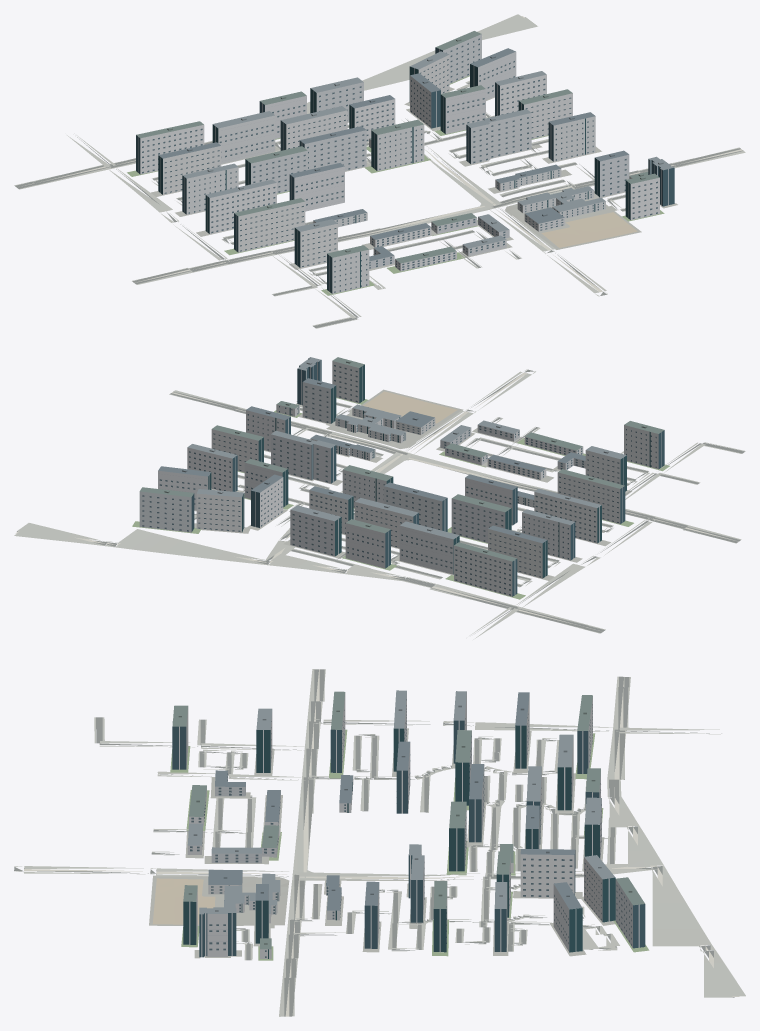
3 renders of one model, top to bottom at view 1: azimuth 30°, elevation 25°; view 2: azimuth 150°, elevation 25°; view 3: azimuth 270°, elevation 25°, orthographic. The views are drawn at different scales.
Parts seen in each view (by area): view 1: context-osm-buildings, context-osm-sidewalks, context-building-plinths, context-osm-roads, context-road-markings; view 2: context-osm-buildings, context-osm-sidewalks, context-osm-roads, context-building-plinths, context-road-markings; view 3: context-osm-buildings, context-osm-sidewalks, context-osm-roads, context-building-plinths, context-road-markings.
Boxes of the visible parts, x1=… form: context-osm-buildings: x1=136, y1=31, x2=674, y2=293; context-osm-sidewalks: x1=14, y1=14, x2=745, y2=328; context-building-plinths: x1=127, y1=75, x2=677, y2=295; context-osm-roads: x1=15, y1=17, x2=743, y2=328; context-road-markings: x1=22, y1=16, x2=742, y2=292; context-osm-buildings: x1=139, y1=357, x2=664, y2=596; context-osm-sidewalks: x1=14, y1=369, x2=745, y2=639; context-osm-roads: x1=17, y1=369, x2=744, y2=633; context-building-plinths: x1=132, y1=389, x2=669, y2=599; context-road-markings: x1=15, y1=372, x2=738, y2=630; context-osm-buildings: x1=172, y1=690, x2=645, y2=958; context-osm-sidewalks: x1=14, y1=669, x2=745, y2=1016; context-osm-roads: x1=14, y1=669, x2=734, y2=1016; context-building-plinths: x1=149, y1=728, x2=649, y2=960; context-road-markings: x1=24, y1=669, x2=739, y2=1016.
Size of the model in its own units: 720 by 47.47 by 646.
